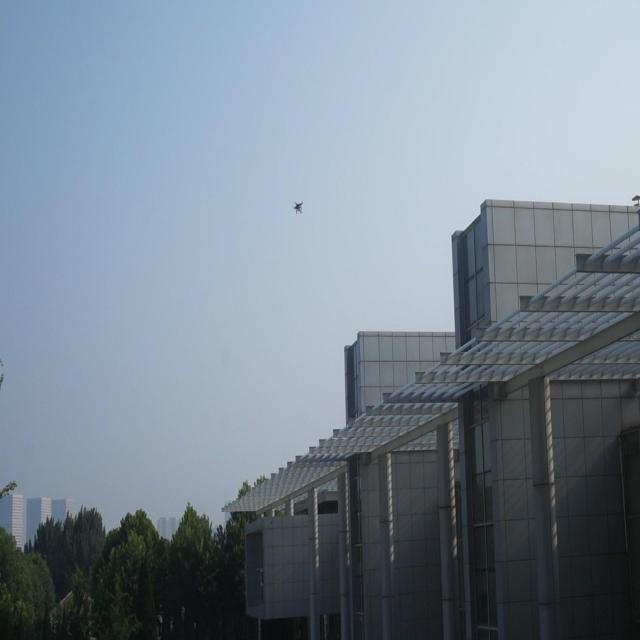drone: (292, 197, 304, 216)
